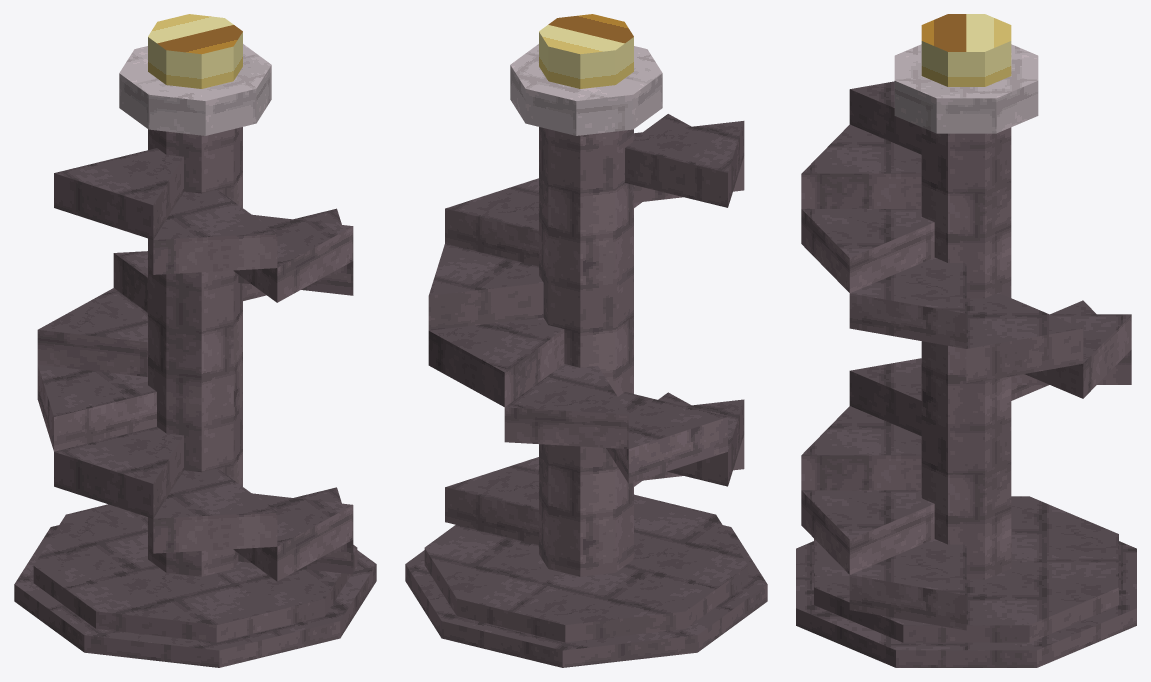
Rendered from stairs_spiral_b.glb.
3 renders of one model, left to right at view 1: azimuth 30°, elevation 25°; view 2: azimuth 150°, elevation 25°; view 3: azimuth 270°, elevation 25°, orthographic.
Visible parts, largest first — view 1: stairs, glow; view 2: stairs, glow; view 3: stairs, glow.
Boxes of the visible parts, box(x1,y1,x2,y2) form: stairs: box(14, 44, 376, 667); glow: box(148, 14, 242, 88); stairs: box(405, 44, 767, 667); glow: box(539, 14, 633, 88); stairs: box(796, 44, 1136, 667); glow: box(921, 14, 1011, 86).
Bounding box in the file's own units: 2.19 × 4 × 2.19.
Materials: 1 (1 with a texture image).
